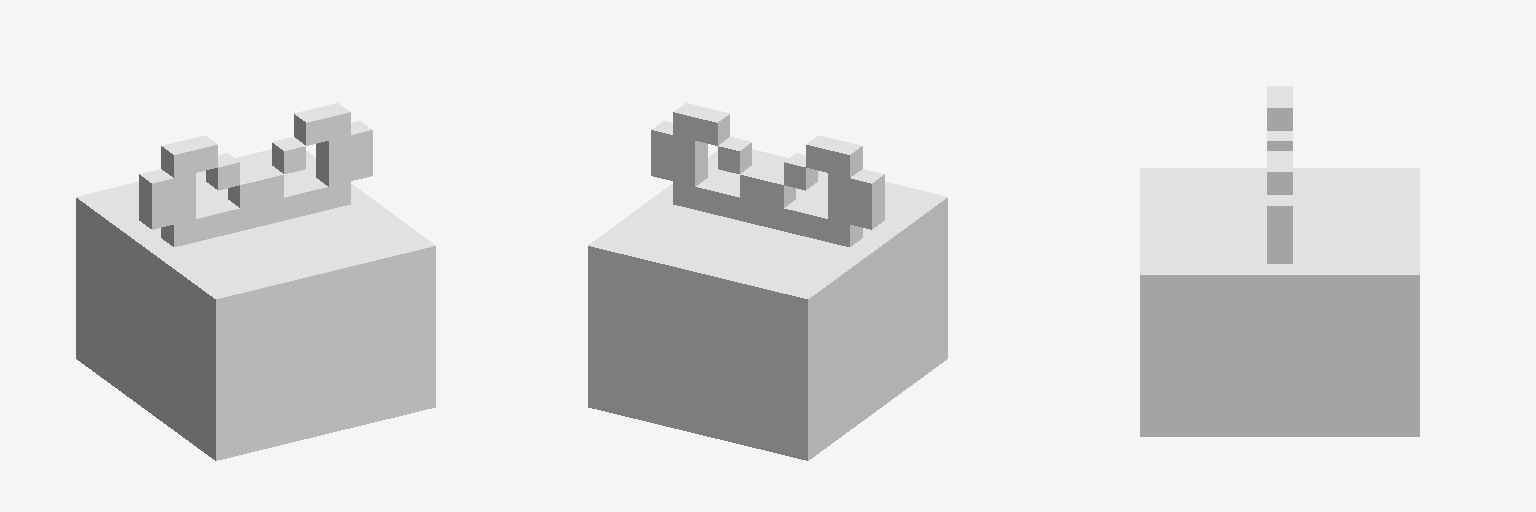
File: Present.obj
3 renders of one model, left to right at view 1: azimuth 30°, elevation 25°; view 2: azimuth 150°, elevation 25°; view 3: azimuth 270°, elevation 25°, orthographic.
Bounding box in the file's own units: 10 × 11 × 11.